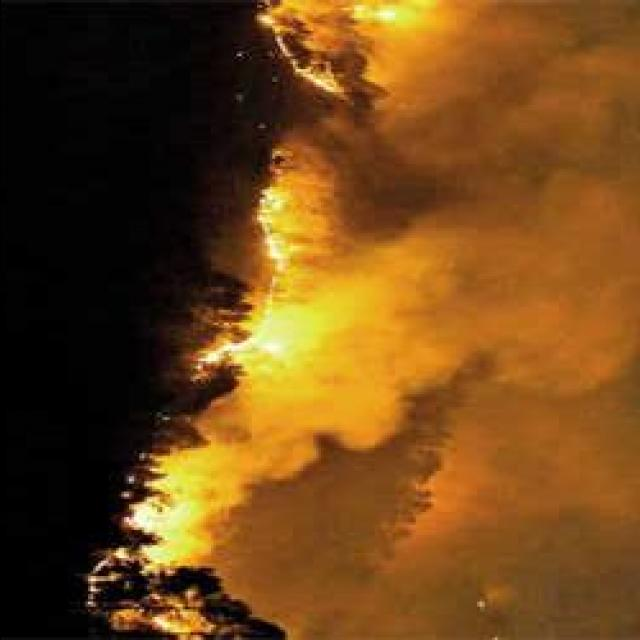fire: (194, 314, 325, 374), (250, 182, 314, 266), (358, 0, 431, 32), (132, 505, 196, 535)
smoke: (447, 365, 630, 567), (227, 366, 395, 494), (522, 36, 640, 156), (392, 214, 514, 328), (500, 215, 514, 238), (344, 410, 346, 420)
